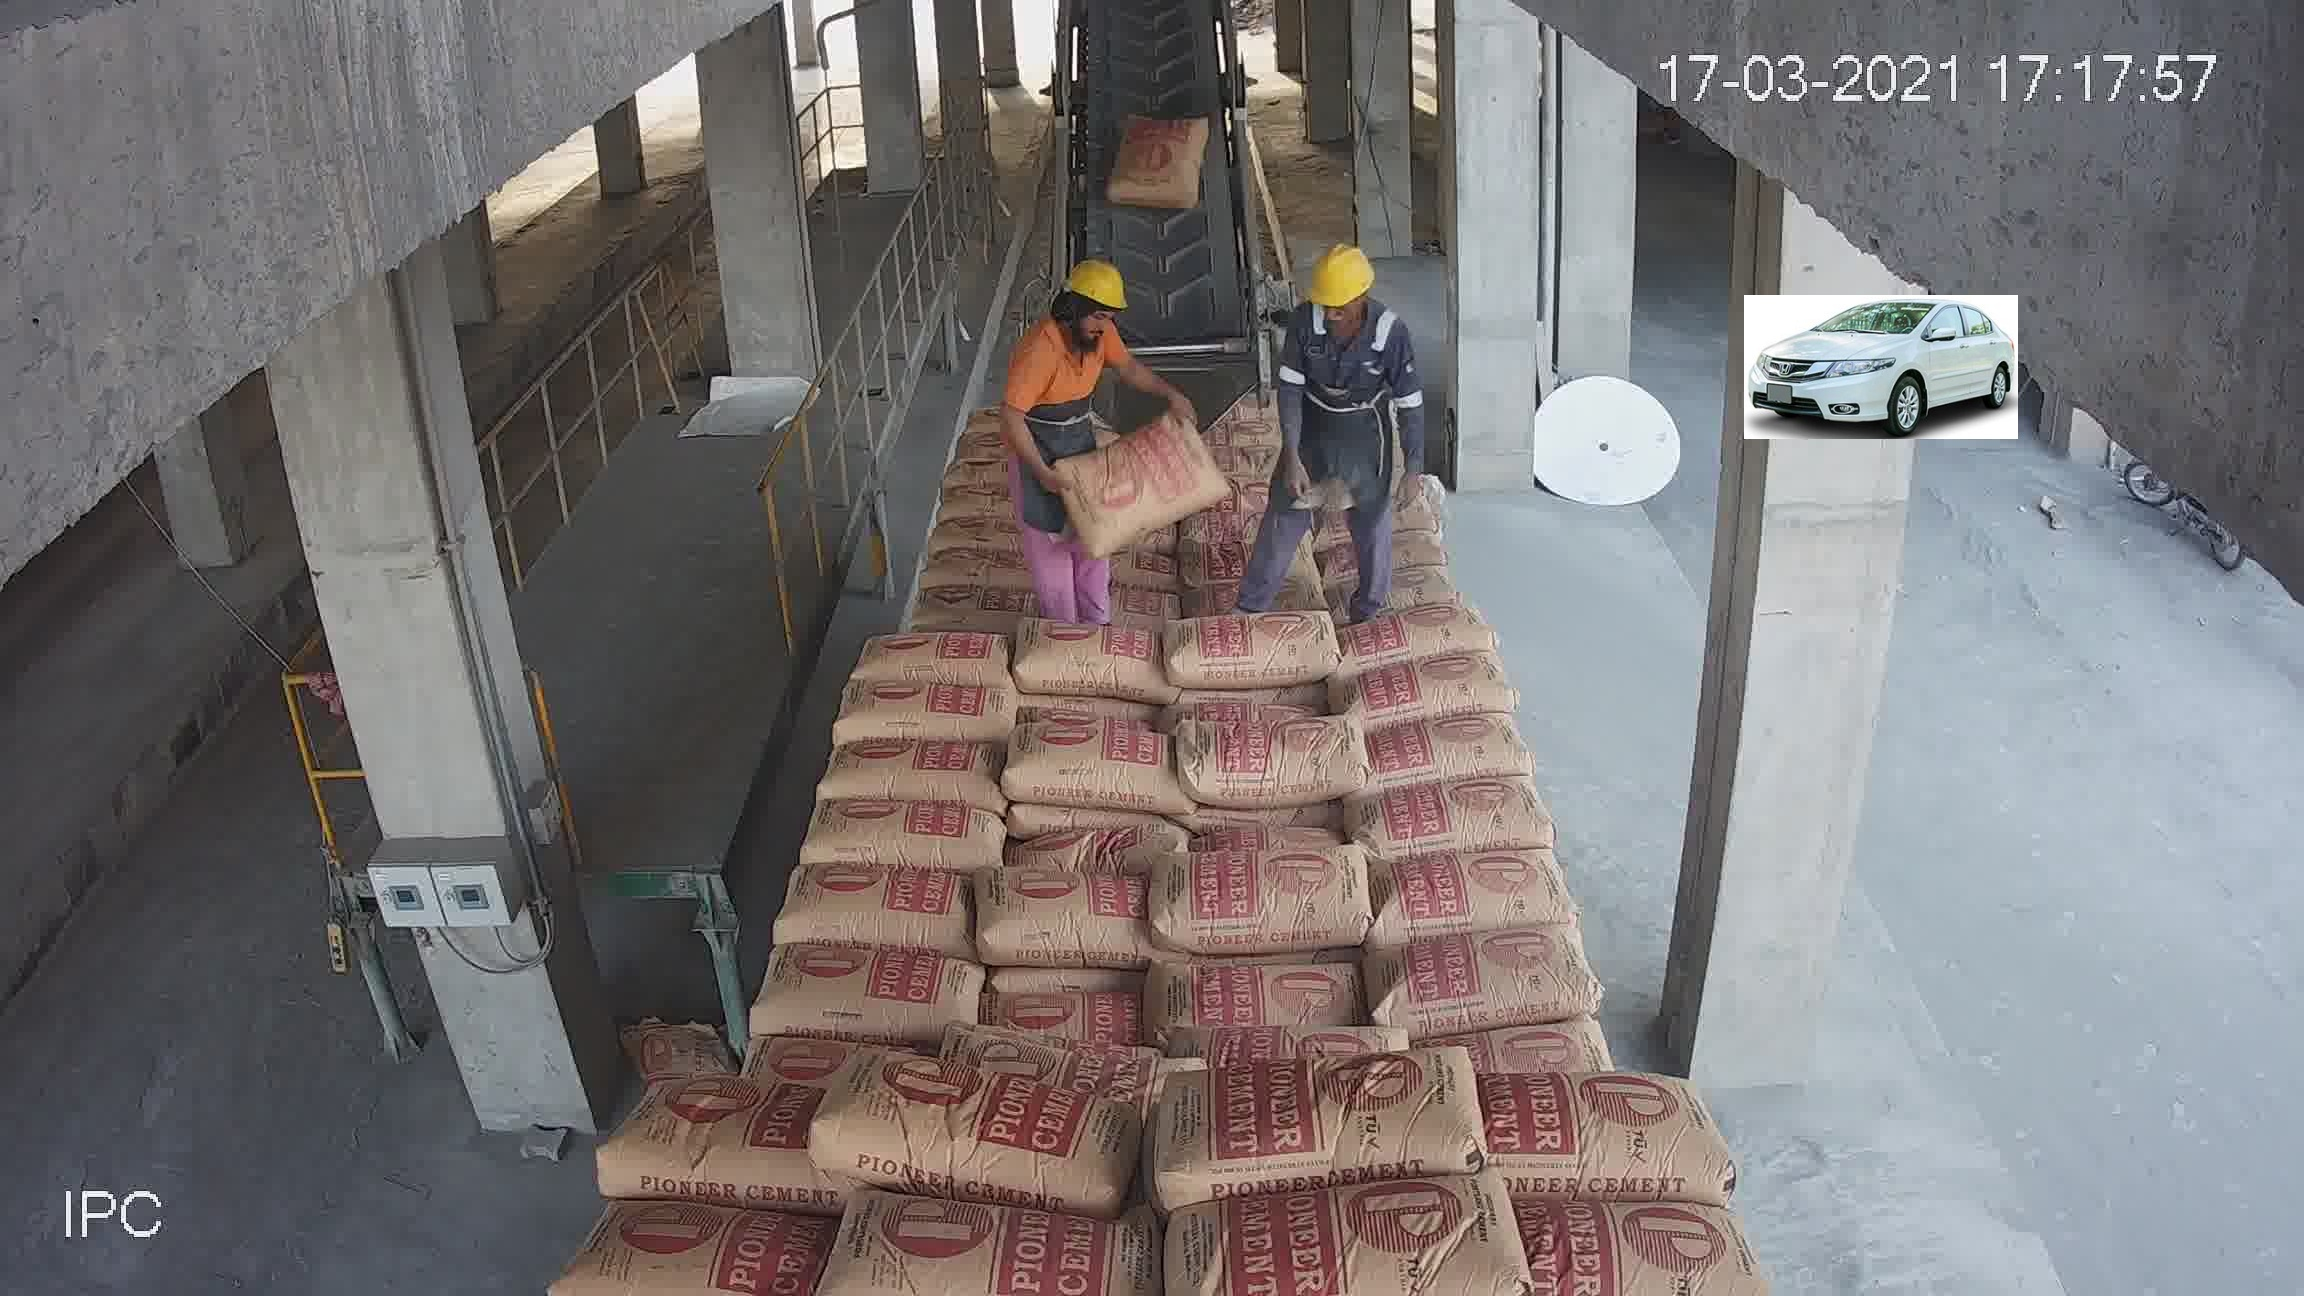bag: (1106, 111, 1203, 206)
bag_h: (1157, 1048, 1497, 1199), (818, 1057, 1144, 1203), (823, 1187, 1185, 1294), (1169, 1187, 1511, 1293), (1465, 1074, 1722, 1203), (592, 1079, 831, 1215), (1514, 1177, 1772, 1291), (540, 1199, 836, 1291), (1165, 837, 1381, 956), (748, 943, 999, 1046), (1378, 923, 1597, 1030), (1362, 847, 1579, 946), (774, 853, 978, 957), (1176, 707, 1370, 812), (972, 870, 1166, 972), (1052, 415, 1214, 535), (1150, 957, 1367, 1041), (1351, 771, 1552, 861), (999, 715, 1190, 805), (798, 794, 1002, 873), (817, 733, 1014, 809), (953, 1024, 1180, 1089), (1324, 595, 1514, 673), (1350, 711, 1532, 791), (1010, 821, 1195, 896), (1174, 608, 1324, 696), (1332, 654, 1518, 723), (1014, 620, 1166, 698), (989, 972, 1150, 1044), (839, 682, 1011, 748), (1438, 1027, 1617, 1086), (859, 627, 1014, 688), (889, 574, 1024, 625), (905, 544, 1036, 592), (916, 517, 1024, 555), (935, 472, 1014, 519)
belt: (1038, 24, 1275, 424)
